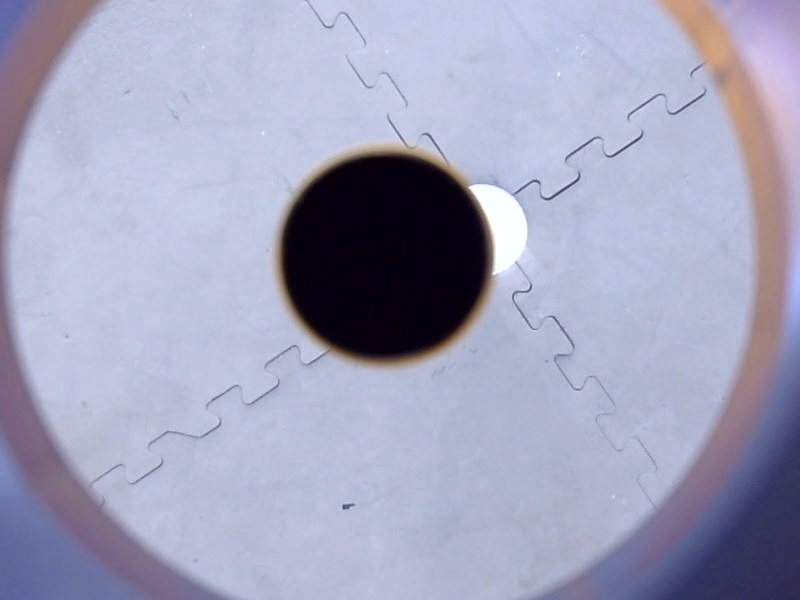tip: (261, 135, 507, 380)
